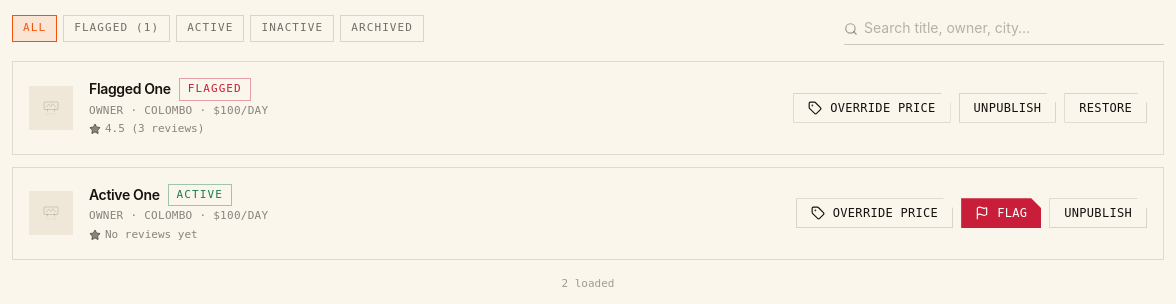
Test case: ModerationPanel › filters to flagged billboards and sorts them first
Expected: the text "Active One" is shown, [89, 185, 160, 205]
Expected: the text "Flagged One" is shown, [89, 79, 171, 99]
Click the button "Flagged (1)". click: (117, 29)
box: [63, 15, 170, 42]
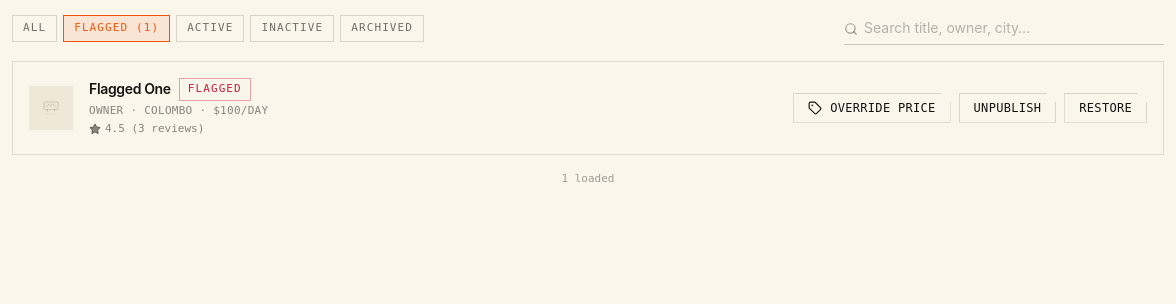
Expected: the text "Flagged One" is shown, [89, 79, 171, 99]
Expected: the text "Active One" is gone
